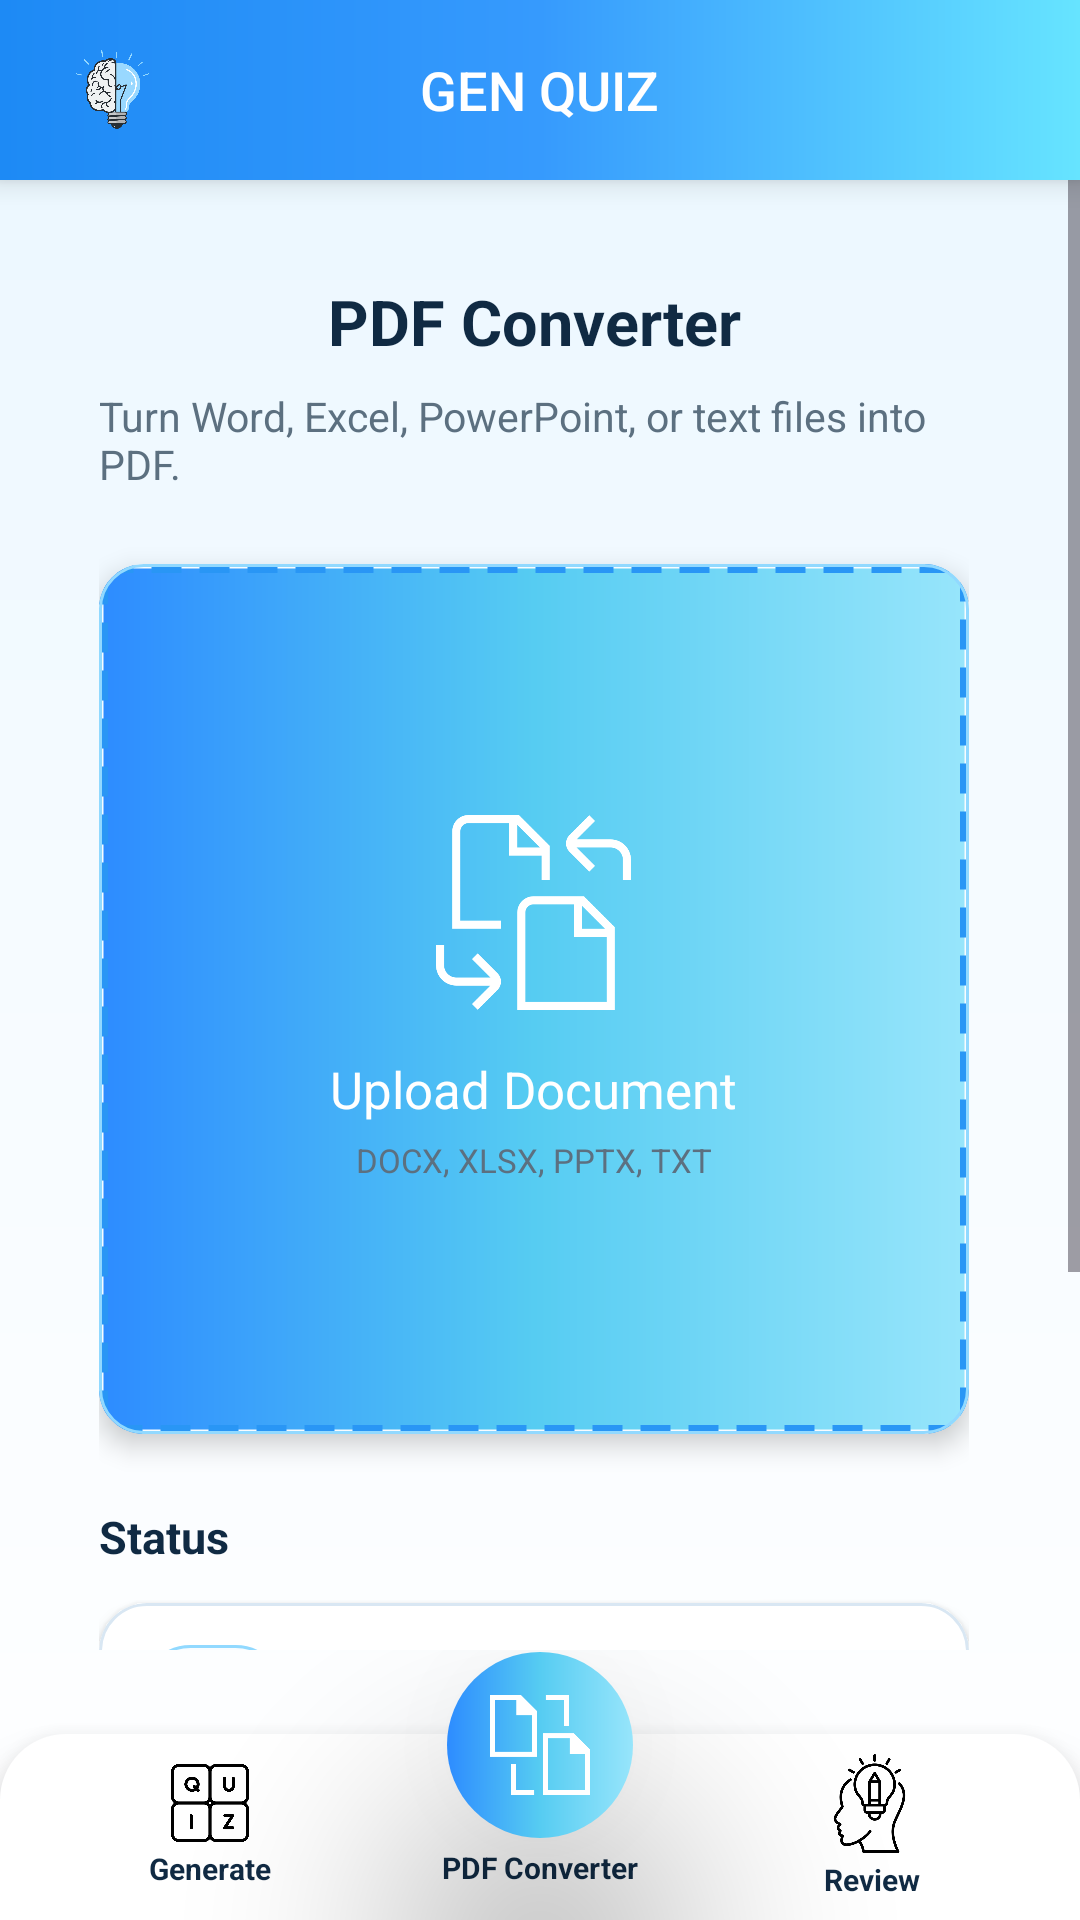

Named icons in this screenshot (1080 x 1920) and their centers, [x,y]:
conversion: [533,912]
pdf convert nav: [540,1745]
